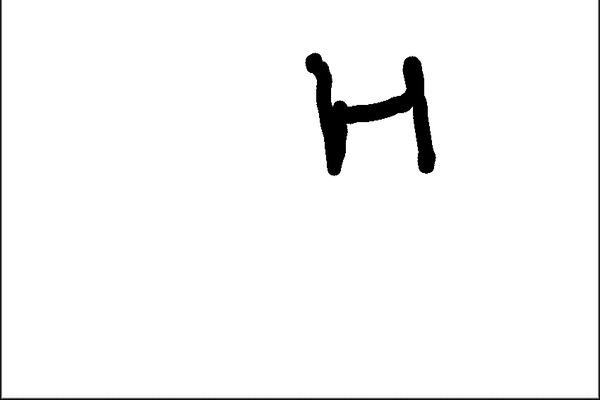H: (296, 46, 444, 176)
